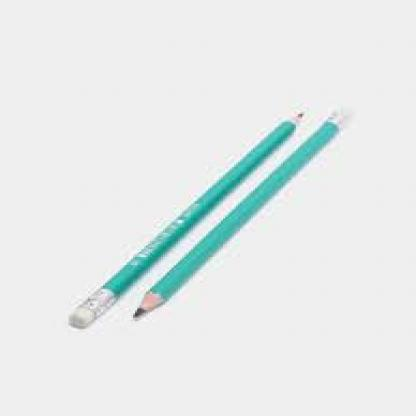pencil: (57, 104, 316, 334), (126, 107, 354, 325)
